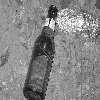beer: (24, 6, 64, 100)
